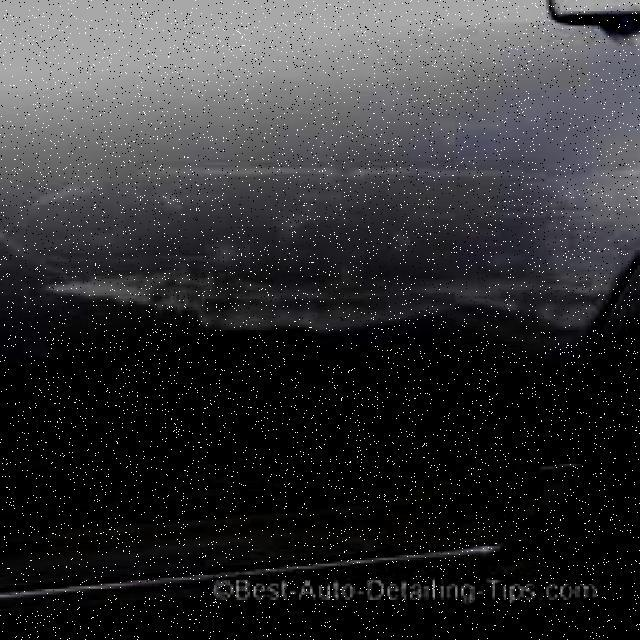car damage: (0, 0, 234, 57)
